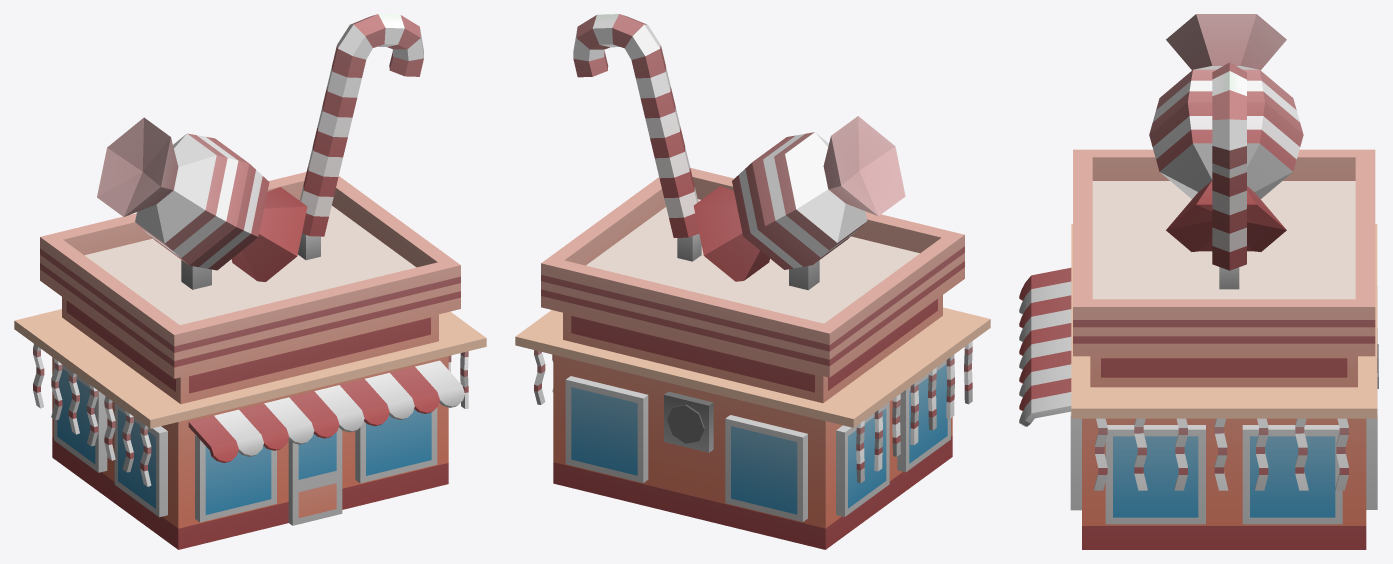
Rendered from candy store.fbx.
3 renders of one model, left to right at view 1: azimuth 30°, elevation 25°; view 2: azimuth 150°, elevation 25°; view 3: azimuth 270°, elevation 25°, orthographic. The views are drawn at different scales.
Visible parts, largest first — view 1: candy_store; view 2: candy_store; view 3: candy_store.
Boxes of the visible parts, box(x1,y1,x2,y2) form: candy_store: box(14, 14, 486, 549); candy_store: box(515, 14, 990, 549); candy_store: box(1019, 14, 1378, 549).
Size of the model in its own units: 700 by 823 by 562.
1 material, 1 textured.
